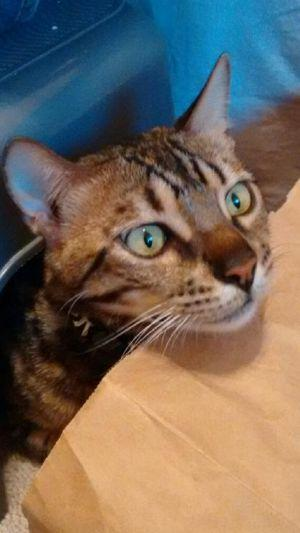bengal: (1, 50, 295, 349)
